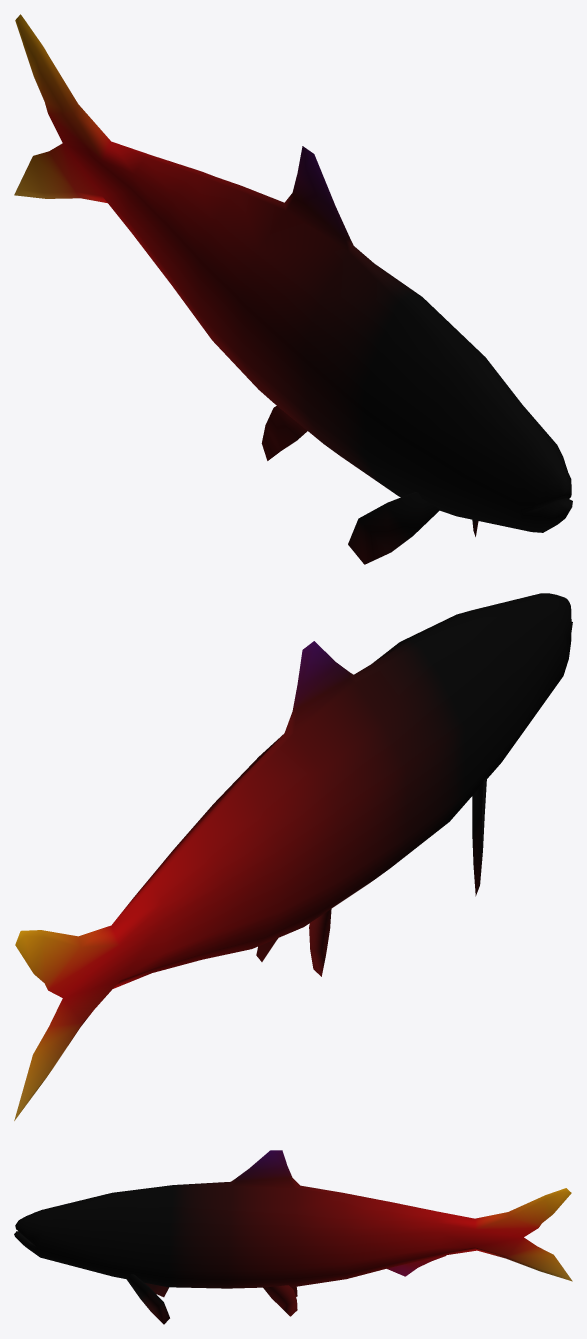
3 views of the same model, one above another, from view 1: azimuth 30°, elevation 25°; view 2: azimuth 150°, elevation 25°; view 3: azimuth 270°, elevation 25° (orthographic). The views are drawn at different scales.
Parts seen in each view (by area): view 1: european pilchard_final; view 2: european pilchard_final; view 3: european pilchard_final.
Boxes of the visible parts, x1,y1,x2,y2 form: european pilchard_final: [14, 14, 572, 564]; european pilchard_final: [14, 593, 572, 1120]; european pilchard_final: [14, 1150, 572, 1324].
Bounding box in the file's own units: 0.0265 × 0.0614 × 0.1931.
